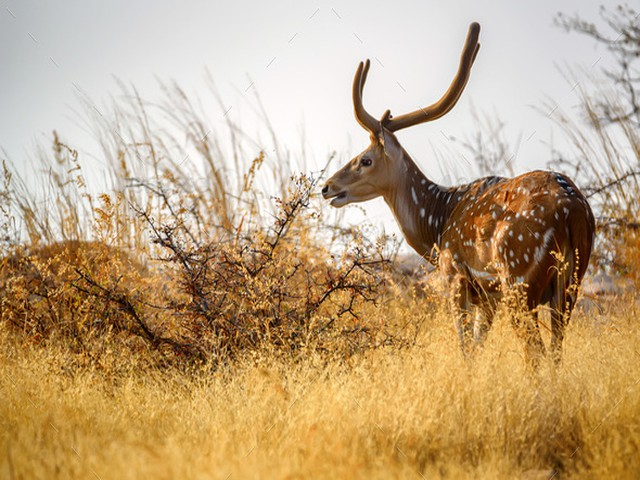deer: (318, 17, 600, 368)
